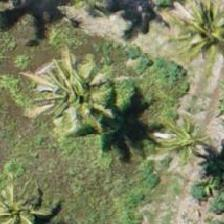coconut_tree: (27, 41, 117, 131), (130, 89, 220, 179), (163, 0, 223, 74), (0, 166, 45, 223)
